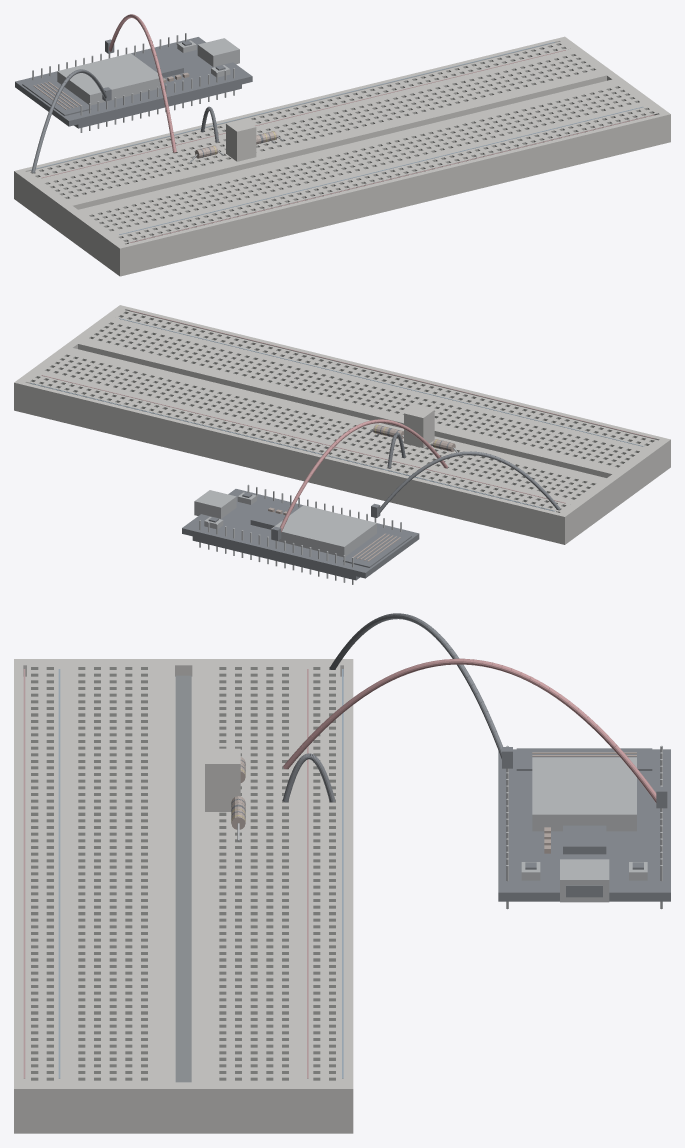
Rendered from step-7.glb.
3 renders of one model, top to bottom at view 1: azimuth 30°, elevation 25°; view 2: azimuth 150°, elevation 25°; view 3: azimuth 270°, elevation 25°, orthographic. The views are drawn at different scales.
Visible parts, largest first — view 1: breadboard__mesh, arduino__mesh, rgb_led__mesh, wire_red__mesh, wire_gnd_rail__mesh; view 2: breadboard__mesh, arduino__mesh, wire_red__mesh, rgb_led__mesh, wire_gnd_rail__mesh; view 3: breadboard__mesh, arduino__mesh, wire_red__mesh, rgb_led__mesh, wire_gnd_rail__mesh.
Boxes of the visible parts, x1,y1,x2,y2 form: breadboard__mesh: (14, 36, 670, 276); arduino__mesh: (15, 33, 252, 132); rgb_led__mesh: (226, 119, 256, 161); wire_red__mesh: (105, 14, 176, 152); wire_gnd_rail__mesh: (31, 69, 111, 173); breadboard__mesh: (14, 305, 670, 544); arduino__mesh: (182, 484, 419, 584); wire_red__mesh: (271, 419, 447, 540); rgb_led__mesh: (404, 405, 434, 447); wire_gnd_rail__mesh: (371, 451, 560, 517); breadboard__mesh: (14, 659, 353, 1133); arduino__mesh: (498, 745, 670, 909); wire_red__mesh: (283, 658, 667, 808); rgb_led__mesh: (205, 748, 240, 811); wire_gnd_rail__mesh: (330, 613, 512, 768).
Size of the model in its own units: 0.165 by 0.031 by 0.1065.
